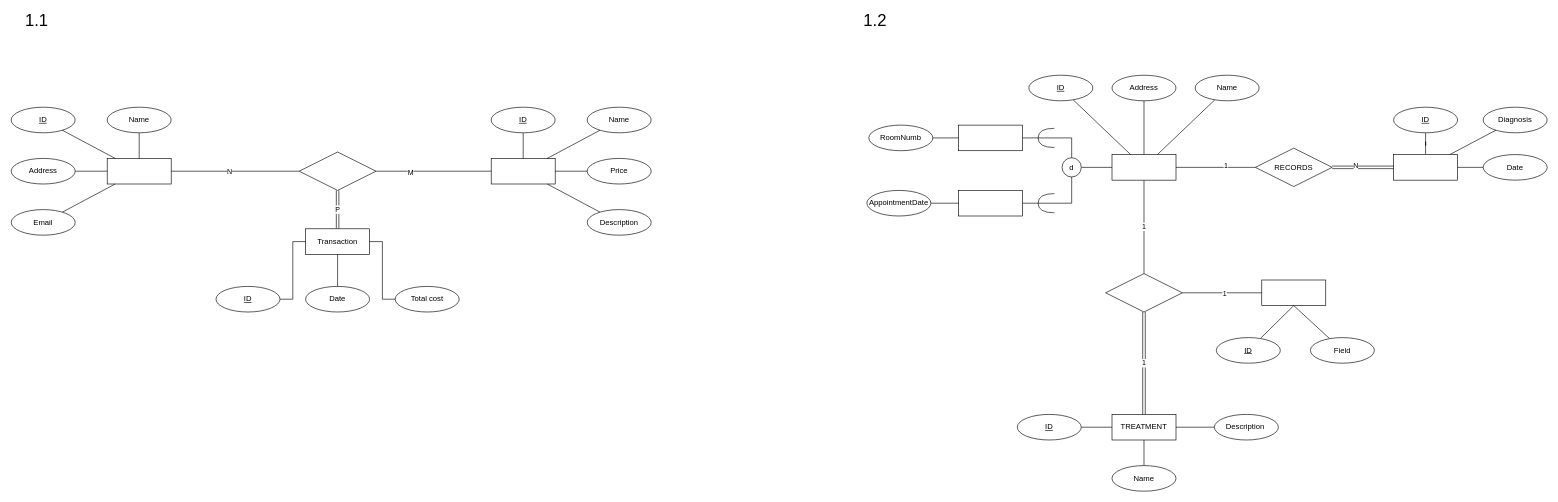
Some shapes in this 1558 by 502 pixel diagram are drawn without their labels. Here are the shapes that lost their labels. From the top down, the centre of each, then its label:
At (x=990, y=137): "INPATIENT".
At (x=139, y=171): "USER".
At (x=337, y=170): "PURCHASES".
At (x=523, y=171): "ITEM".
At (x=1143, y=167): "INDIVIDUAL".
At (x=1425, y=167): "MEDRECORD".
At (x=990, y=203): "OUTPATIENT".
At (x=1143, y=292): "ADMINISTRATES".
At (x=1293, y=292): "HEALTH PROFESSIONAL".
